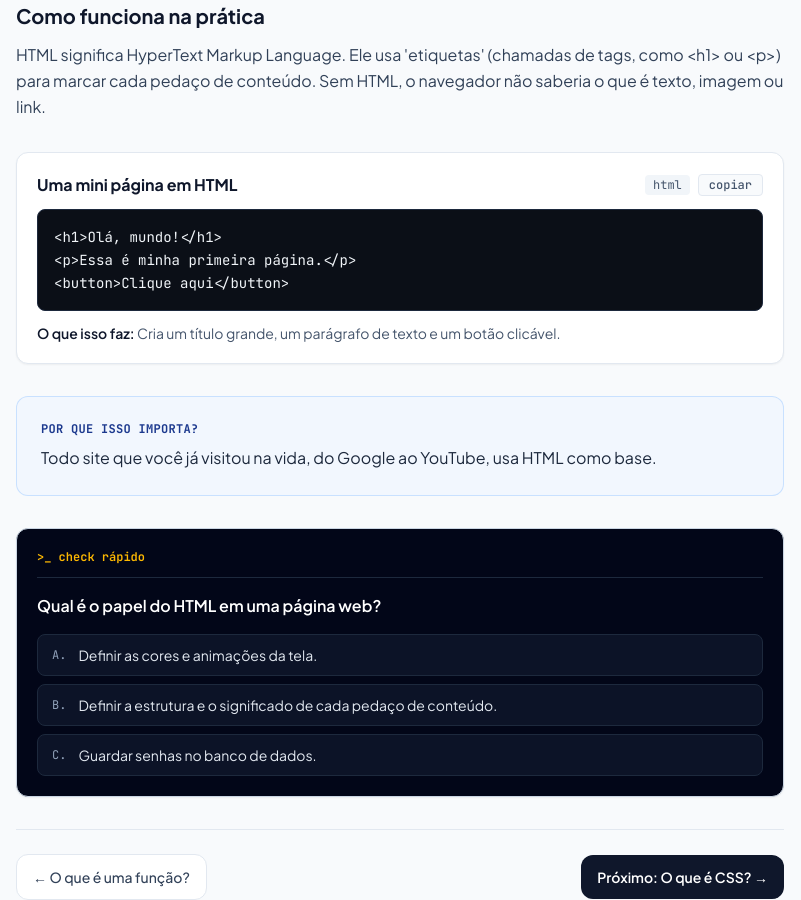
it: Modo ELI5 › renderiza tópico com botão copiar e check rápido que salva progresso
(page scrolled)
Expected: the button "copiar" is shown, [698,174,763,196]
Click the button "Definir a estrutura e o significado de cada pedaço de conteúdo." at (400, 705), box [37,684,763,726]
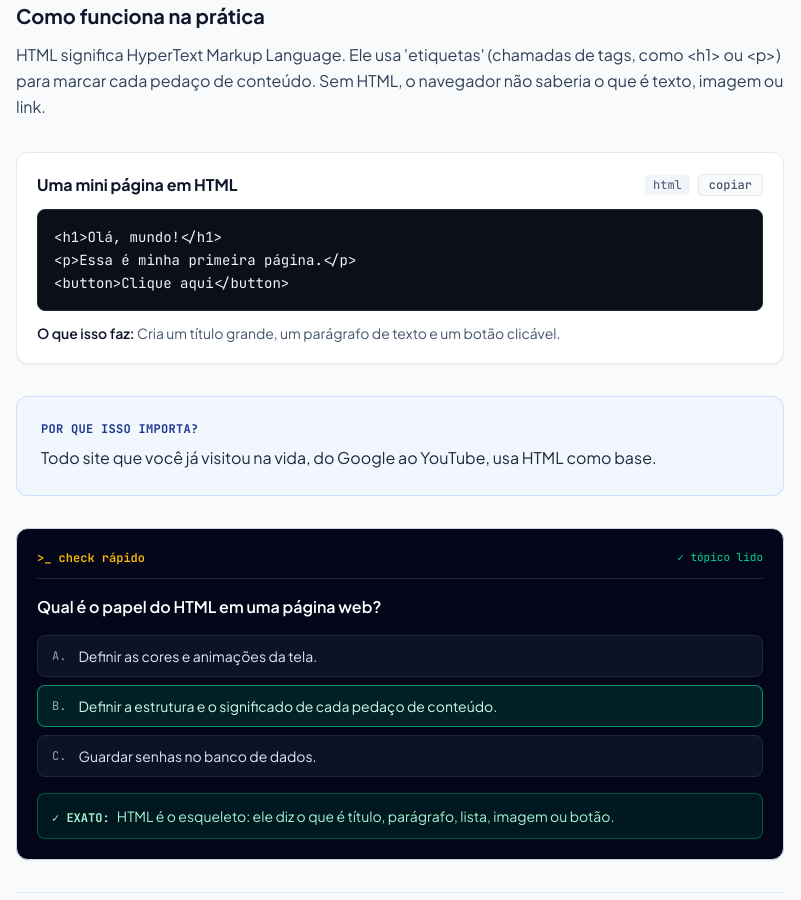
Now the text "✓ exato:" is shown, box [52,810,117,826]
Now the text "✓ tópico lido" is shown, box [677,549,763,566]
